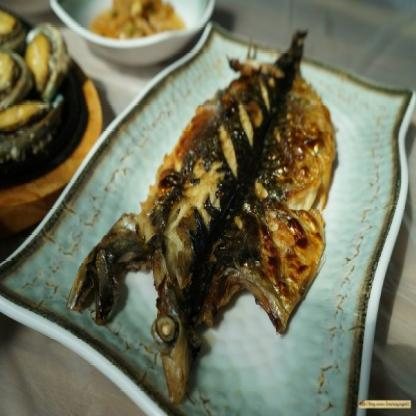Peixe: (71, 19, 344, 413)
